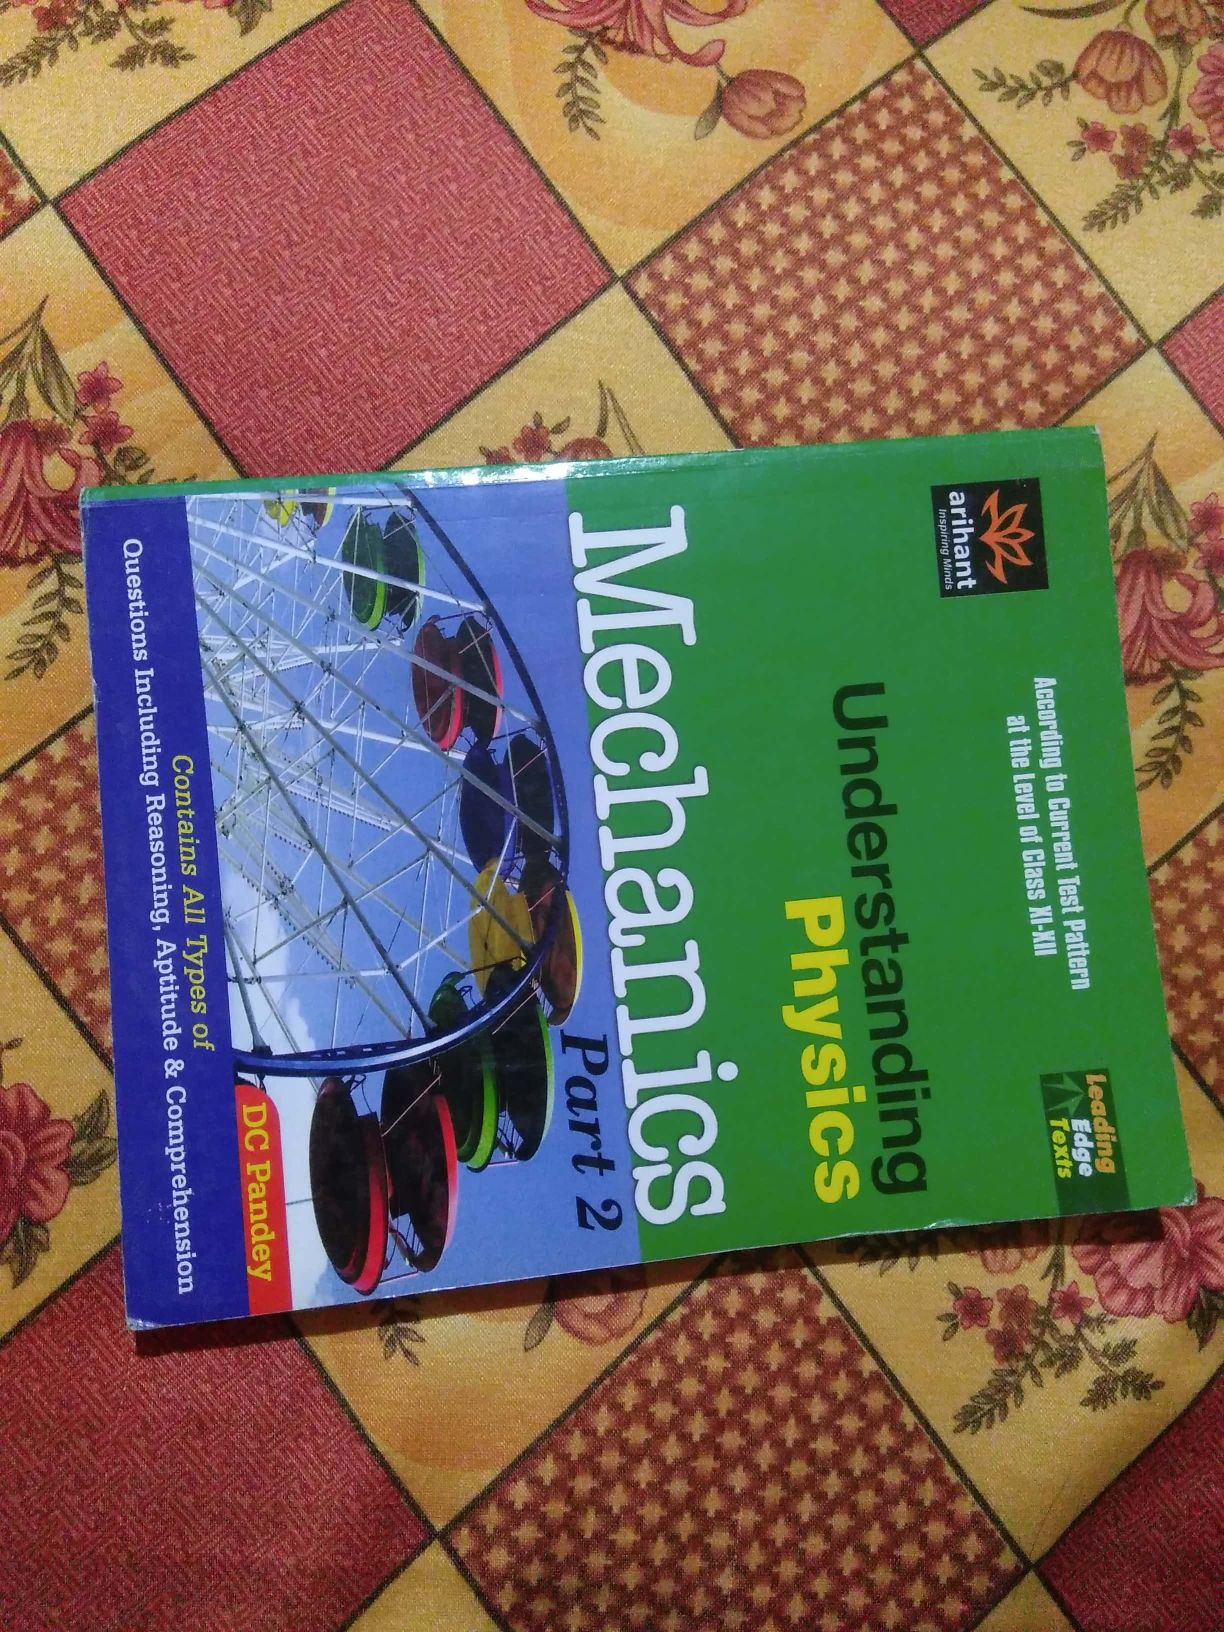mechanics: (22, 437, 1212, 1295)
